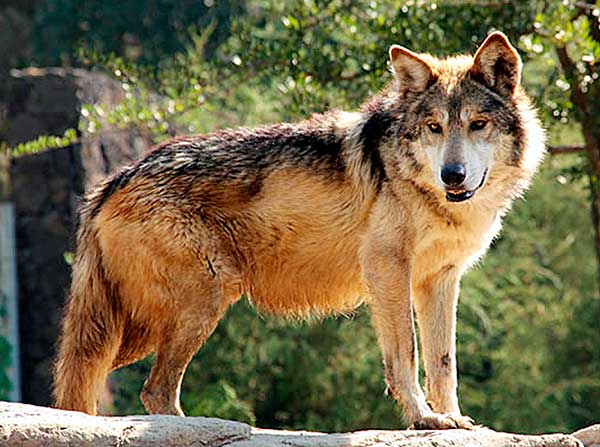Lobo: (76, 20, 551, 429)
